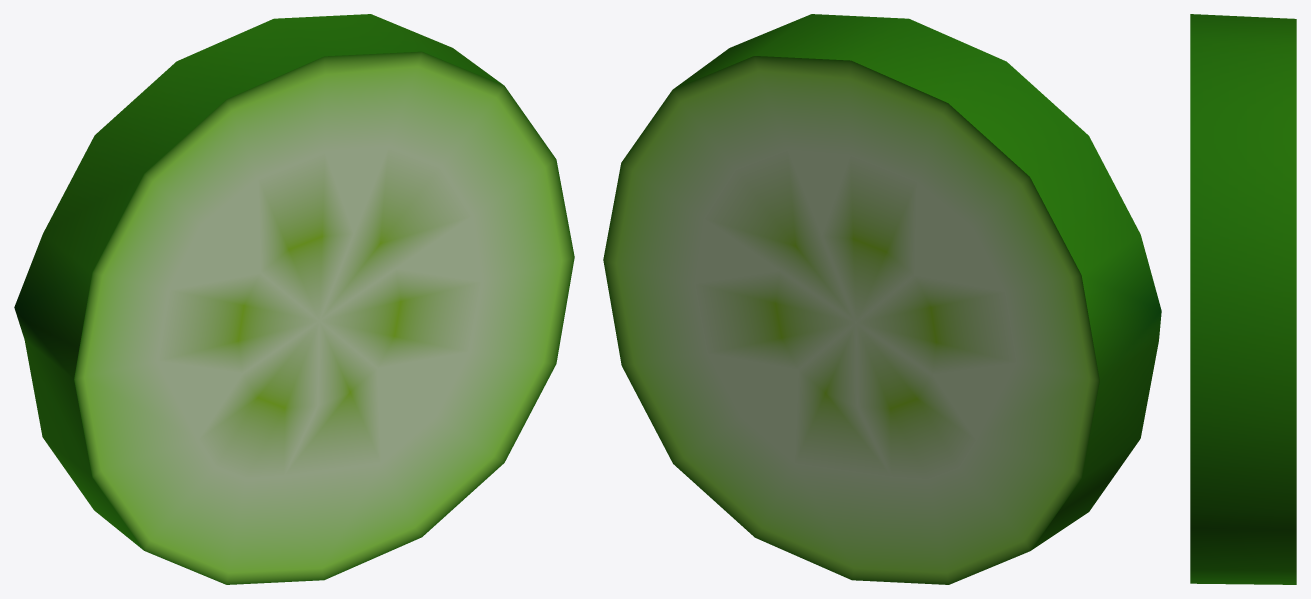
Rendered from Cucumber_Slice_12.fbx.
3 renders of one model, left to right at view 1: azimuth 30°, elevation 25°; view 2: azimuth 150°, elevation 25°; view 3: azimuth 270°, elevation 25°, orthographic.
Parts seen in each view (by area): view 1: Cucumber_Slice_12; view 2: Cucumber_Slice_12; view 3: Cucumber_Slice_12.
Boxes of the visible parts, x1,y1,x2,y2 form: Cucumber_Slice_12: (14, 14, 574, 584); Cucumber_Slice_12: (603, 14, 1161, 584); Cucumber_Slice_12: (1190, 14, 1296, 584).
Size of the model in its own units: 4.89 by 4.58 by 0.862.
